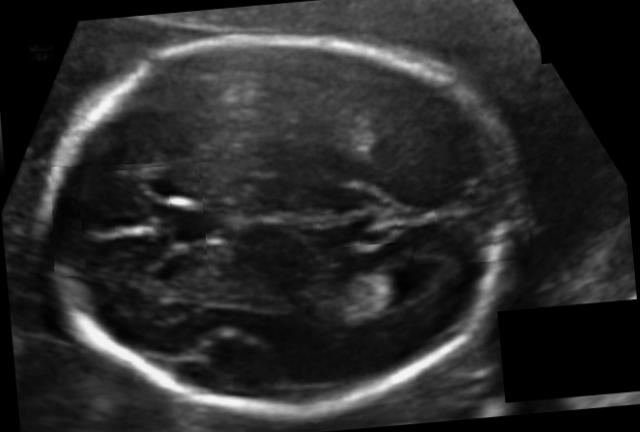CHOROID_PLEXUS: (76, 163, 209, 284)
CSP: (304, 241, 420, 336)
MIDLINE_FALX: (47, 132, 534, 296)
